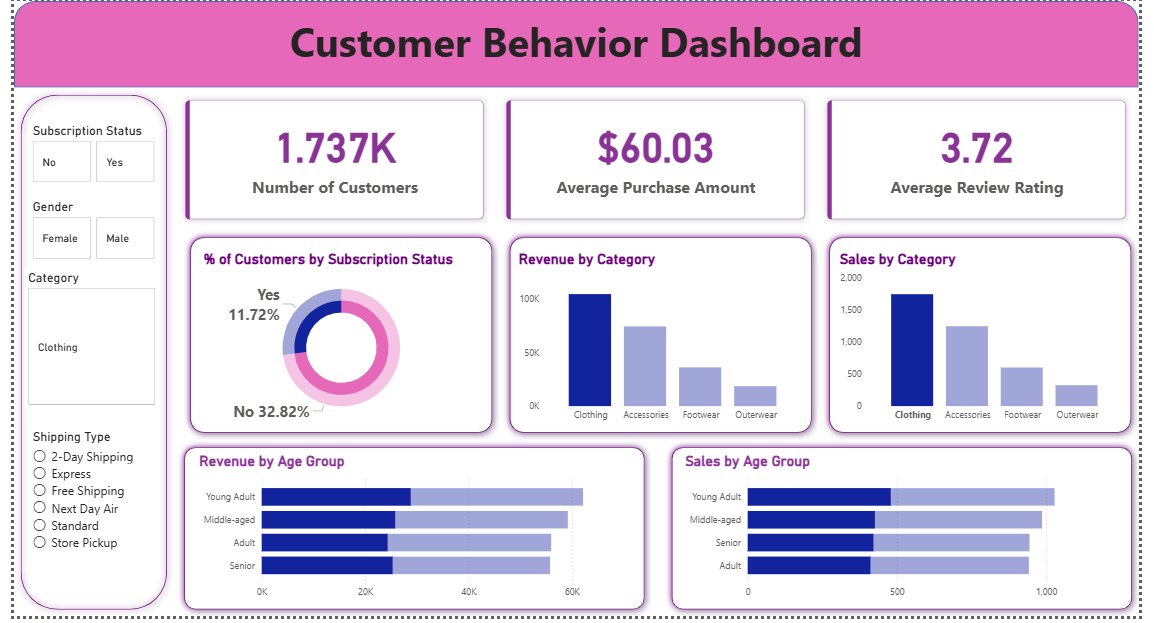

What the dashboard file says about the page in this screenshot:
{"tool":"powerbi","page":{"name":"Page 1","canvas":[1500,820],"ordinal":0},"visuals":[{"type":"cardVisual","fields":{"Data":["public customer.Number of Customers","public customer.Average Purchase Amount","public customer.Average Review Rating"]},"box":[212.9,115.3,1286.5,191.6],"z":2000},{"type":"shape","box":[218.3,585.6,631.7,234.2],"z":2500,"group":"g1"},{"type":"shape","box":[0,0,1499.4,115.3],"z":3000},{"type":"textbox","box":[0,12.4,1499.4,102.9],"z":4000},{"type":"shape","box":[225.4,307,420.5,278.6],"z":5000},{"type":"donutChart","title":"% of Customers by Subscription Status","fields":{"Category":["public customer.subscription_status"],"Y":["CountNonNull(public customer.customer_id)"]},"box":[248.4,331.8,376.2,237.8],"z":6000},{"type":"shape","box":[1078.9,307,420.5,278.6],"z":7000},{"type":"shape","box":[652.1,307,420.5,278.6],"z":8000},{"type":"clusteredColumnChart","title":"Revenue by Category","fields":{"Y":["Sum(public customer.purchase_amount)"],"Category":["public customer.category"]},"box":[667.2,331.8,385.1,237.8],"z":9000},{"type":"clusteredColumnChart","title":"Sales by Category","fields":{"Y":["CountNonNull(public customer.customer_id)"],"Category":["public customer.category"]},"box":[1096.6,331.8,385.1,237.8],"z":10000},{"type":"shape","box":[0,115.3,212.9,704.5],"z":11000},{"type":"advancedSlicerVisual","fields":{"Values":["public customer.subscription_status"]},"box":[19.5,161.5,173.9,85.2],"z":12000},{"type":"advancedSlicerVisual","fields":{"Values":["public customer.gender"]},"box":[19.5,264.4,173.9,85.2],"z":13000},{"type":"advancedSlicerVisual","fields":{"Values":["public customer.category"]},"box":[14.2,358.4,179.2,186.3],"z":14000},{"type":"listSlicer","fields":{"Values":["public customer.shipping_type"]},"box":[19.5,569.6,168.6,220],"z":15000},{"type":"shape","box":[867.7,585.6,631.7,234.2],"z":16000},{"type":"clusteredBarChart","title":"Sales by Age Group","fields":{"Y":["CountNonNull(public customer.customer_id)"],"Category":["public customer.age_group"]},"box":[890.8,601.5,585.6,204.1],"z":17000},{"type":"clusteredBarChart","title":"Revenue by Age Group","fields":{"Y":["Sum(public customer.purchase_amount)"],"Category":["public customer.age_group"]},"box":[241.4,601.6,585.6,204.1],"z":17500,"group":"g1"},{"type":"group","id":"g1","title":"Group 1","box":[218.3,585.6,631.7,234.2],"z":17501}]}

Visuals, with their boxes in screenshot pixels (x1, y1, x2, y2), scaled from the page's 1500x820 canvas onto the 1154x623 screenshot:
cardVisual - public customer.Number of Customers x public customer.Average Purchase Amount: left=164, top=88, right=1153, bottom=233
shape: left=168, top=445, right=654, bottom=622
shape: left=0, top=0, right=1153, bottom=88
textbox: left=0, top=9, right=1153, bottom=88
shape: left=173, top=233, right=497, bottom=445
"% of Customers by Subscription Status" donutChart: left=191, top=252, right=481, bottom=433
shape: left=830, top=233, right=1153, bottom=445
shape: left=502, top=233, right=825, bottom=445
"Revenue by Category" clusteredColumnChart: left=513, top=252, right=810, bottom=433
"Sales by Category" clusteredColumnChart: left=844, top=252, right=1140, bottom=433
shape: left=0, top=88, right=164, bottom=622
advancedSlicerVisual - public customer.subscription_status: left=15, top=123, right=149, bottom=187
advancedSlicerVisual - public customer.gender: left=15, top=201, right=149, bottom=266
advancedSlicerVisual - public customer.category: left=11, top=272, right=149, bottom=414
listSlicer - public customer.shipping_type: left=15, top=433, right=145, bottom=600
shape: left=668, top=445, right=1153, bottom=622
"Sales by Age Group" clusteredBarChart: left=685, top=457, right=1136, bottom=612
"Revenue by Age Group" clusteredBarChart: left=186, top=457, right=636, bottom=612
"Group 1" group: left=168, top=445, right=654, bottom=622
